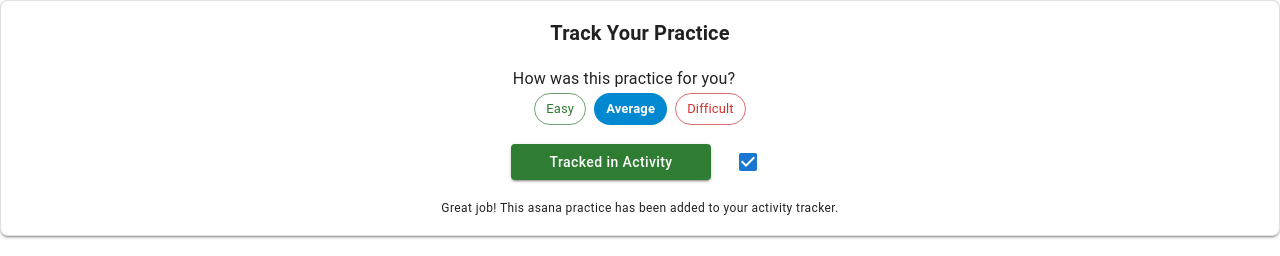
it: ActivityTracker Component › Activity Toggle Tests › should delete activity when unchecking
Click the button "Tracked in Activity".
click(611, 162)  # box [511,144,711,180]
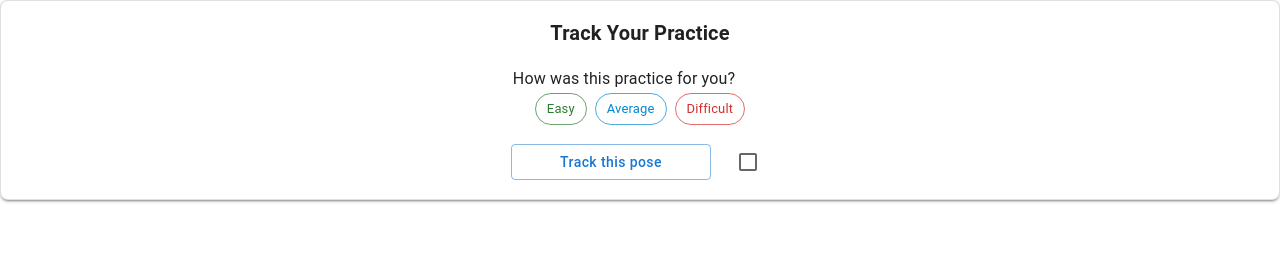
Expected: the button "Track this pose" is shown, [511,144,711,180]
